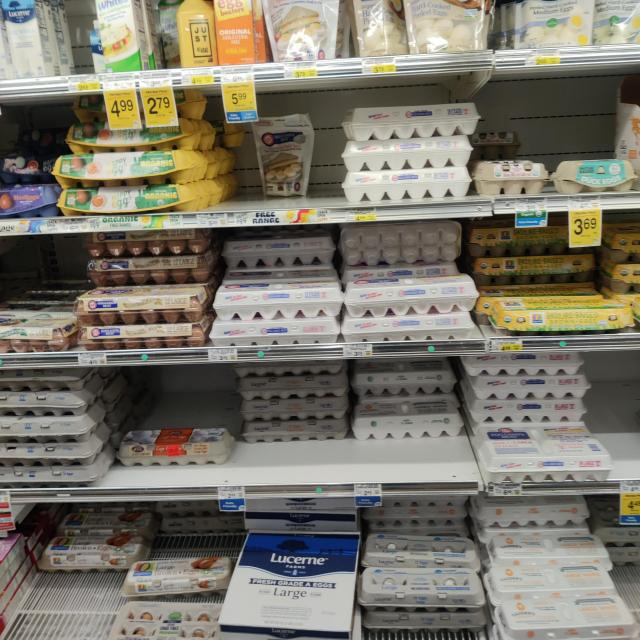Eggs: (476, 415, 612, 487), (48, 140, 218, 188), (352, 562, 488, 615), (490, 592, 640, 640), (55, 180, 224, 220), (334, 130, 485, 173), (496, 291, 640, 336), (338, 96, 496, 137), (98, 591, 230, 640), (79, 234, 210, 282), (483, 558, 638, 598), (116, 420, 237, 468), (215, 274, 343, 319), (489, 523, 613, 569), (337, 162, 475, 202), (122, 550, 232, 599), (341, 220, 467, 262), (344, 274, 481, 312), (349, 392, 465, 436), (70, 286, 207, 322), (366, 526, 483, 568), (238, 399, 350, 442), (81, 318, 213, 351), (469, 150, 551, 203), (219, 233, 335, 270), (348, 363, 460, 400), (468, 370, 594, 402), (554, 157, 634, 203), (231, 373, 347, 404), (0, 415, 105, 444), (0, 386, 97, 416)
